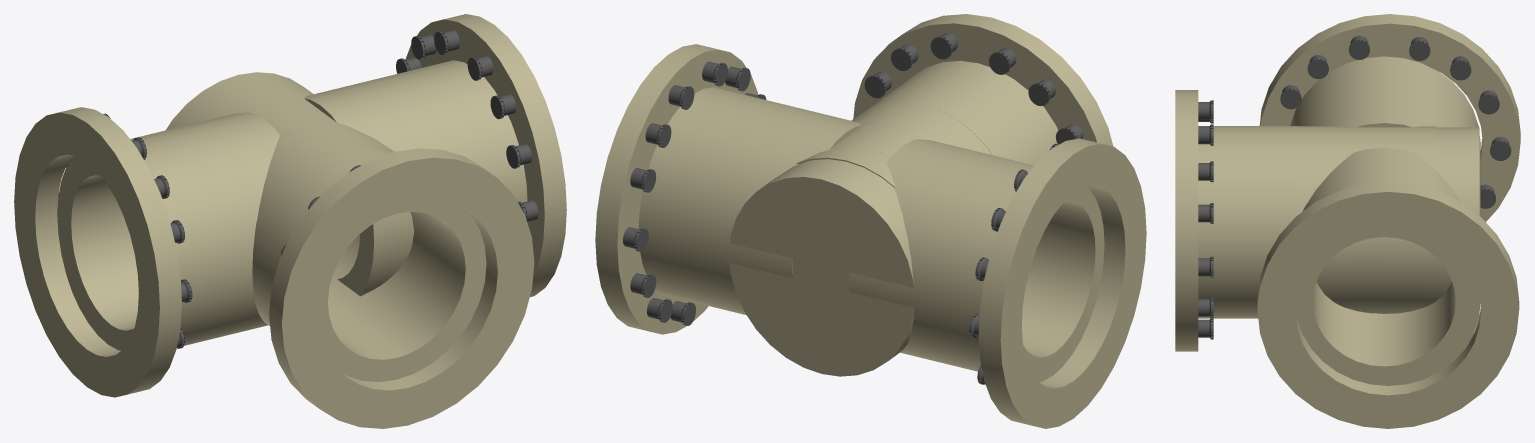
File: pipeT.fbx
3 views of the same model, side by side, from view 1: azimuth 30°, elevation 25°; view 2: azimuth 150°, elevation 25°; view 3: azimuth 270°, elevation 25° (orthographic). The views are drawn at different scales.
Parts seen in each view (by area): view 1: Цилиндр.038, Цилиндр.052, Цилиндр.039, Цилиндр.037, Цилиндр.036, Цилиндр.040; view 2: Цилиндр.038, Цилиндр.039, Цилиндр.037, Цилиндр.052, Цилиндр.036, Цилиндр.048, Цилиндр.040; view 3: Цилиндр.038, Цилиндр.037, Цилиндр.039, Цилиндр.052, Цилиндр.040, Цилиндр.048.
Part boxes in pixels (<box>): Цилиндр.038: <box>57,60,527,382</box>; Цилиндр.052: <box>269,148,534,428</box>; Цилиндр.039: <box>14,107,181,397</box>; Цилиндр.037: <box>405,14,566,296</box>; Цилиндр.036: <box>396,30,538,221</box>; Цилиндр.040: <box>57,113,192,348</box>; Цилиндр.038: <box>638,60,1104,381</box>; Цилиндр.039: <box>978,138,1146,428</box>; Цилиндр.037: <box>595,44,758,334</box>; Цилиндр.052: <box>853,14,1113,146</box>; Цилиндр.036: <box>623,61,766,325</box>; Цилиндр.048: <box>864,33,1083,144</box>; Цилиндр.040: <box>969,143,1058,384</box>; Цилиндр.038: <box>1198,56,1480,385</box>; Цилиндр.037: <box>1257,182,1519,428</box>; Цилиндр.039: <box>1259,14,1520,221</box>; Цилиндр.052: <box>1175,90,1198,351</box>; Цилиндр.040: <box>1280,35,1511,208</box>; Цилиндр.048: <box>1198,100,1213,339</box>.
Bounding box in the file's own units: 309 × 192 × 254.
